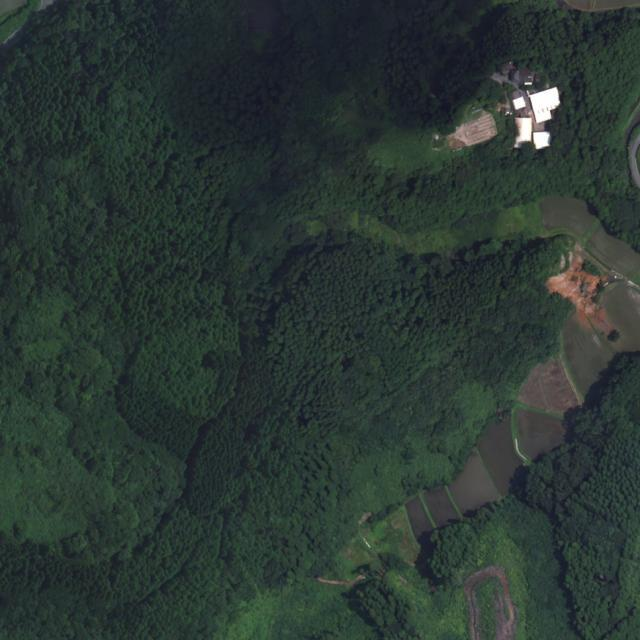landslide: (549, 255, 607, 312), (445, 109, 498, 149), (535, 137, 551, 148)
